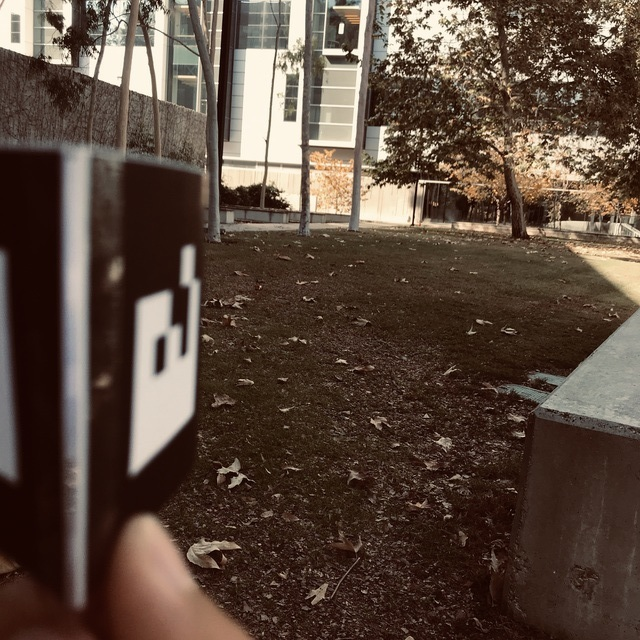ARTag: (1, 146, 202, 608)
